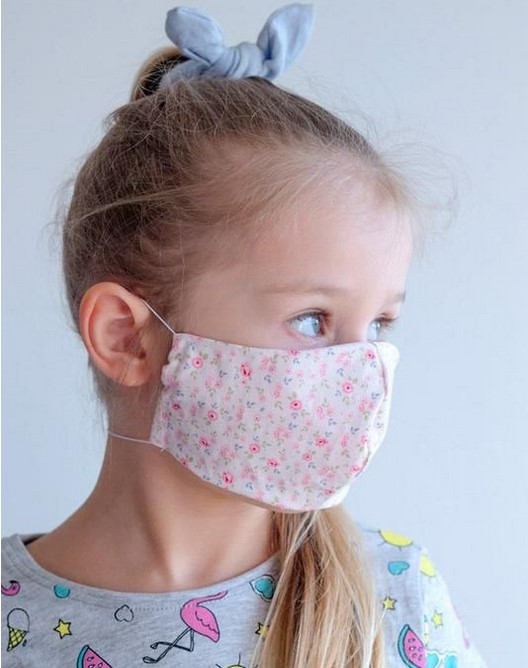face_with_mask: (66, 82, 410, 521)
